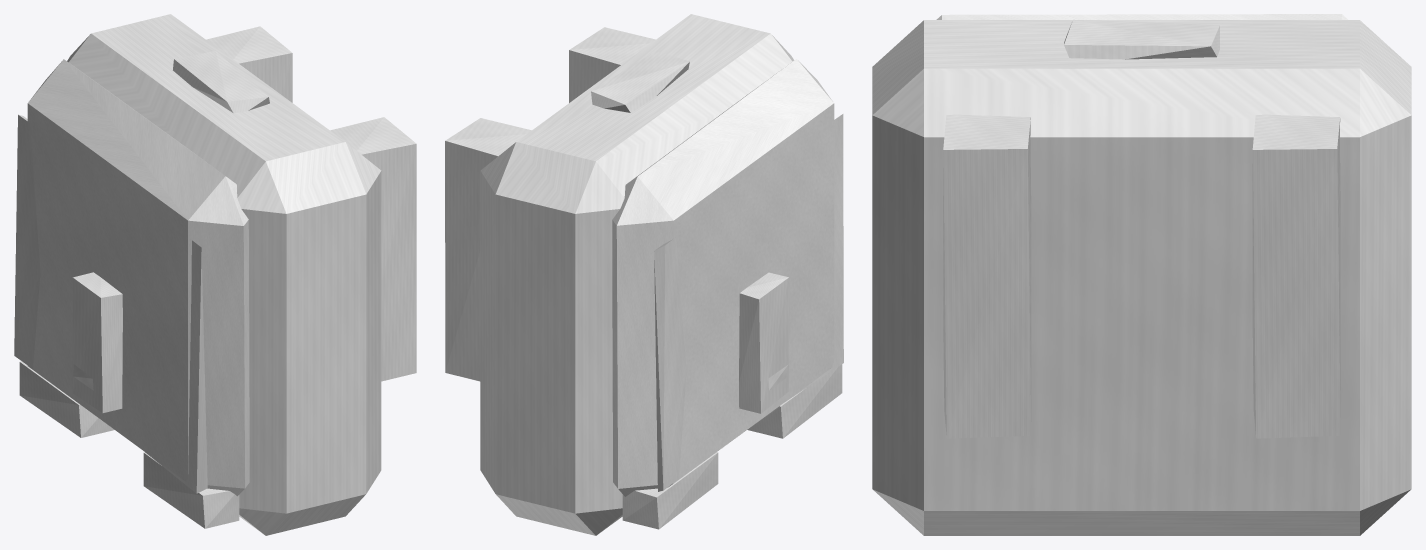
The model's file is Field_Medic_Rescue_Pack_LOD2.glb.
3 views of the same model, side by side, from view 1: azimuth 30°, elevation 25°; view 2: azimuth 150°, elevation 25°; view 3: azimuth 270°, elevation 25° (orthographic). The views are drawn at different scales.
Visible parts, largest first — view 1: Field_Medic_Rescue_Pack_LOD2; view 2: Field_Medic_Rescue_Pack_LOD2; view 3: Field_Medic_Rescue_Pack_LOD2.
Part boxes in pixels (box(x1,y1,x2,y2)): Field_Medic_Rescue_Pack_LOD2: box(14, 14, 416, 535); Field_Medic_Rescue_Pack_LOD2: box(445, 14, 843, 535); Field_Medic_Rescue_Pack_LOD2: box(872, 14, 1411, 535).
Size of the model in its own units: 0.2498 by 0.3599 by 0.366.
3 materials, 3 textured.
